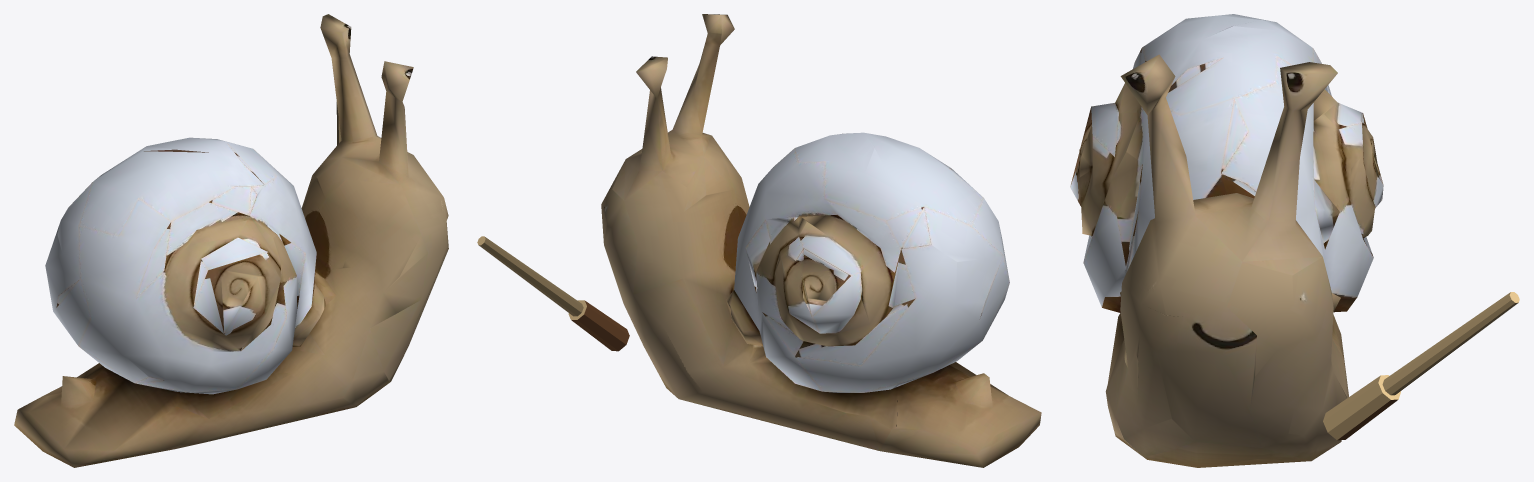
The model's file is toad-thing-snail-conductor.glb.
3 views of the same model, side by side, from view 1: azimuth 30°, elevation 25°; view 2: azimuth 150°, elevation 25°; view 3: azimuth 270°, elevation 25° (orthographic). The views are drawn at different scales.
Parts seen in each view (by area): view 1: lo; view 2: lo; view 3: lo.
Part boxes in pixels (<box>): lo: <box>14,14,448,467</box>; lo: <box>477,14,1041,467</box>; lo: <box>1070,14,1519,467</box>.
Size of the model in its own units: 0.0368 by 0.0278 by 0.0269.
1 material, 1 textured.
